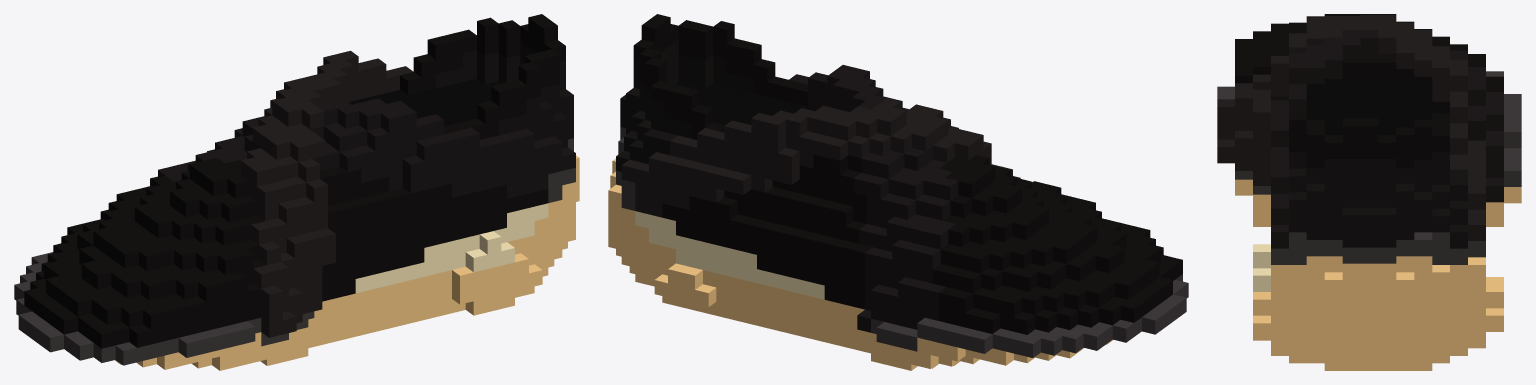
The model's file is Onyx.fbx.
3 renders of one model, left to right at view 1: azimuth 30°, elevation 25°; view 2: azimuth 150°, elevation 25°; view 3: azimuth 270°, elevation 25°, orthographic. The views are drawn at different scales.
Visible parts, largest first — view 1: Untitled; view 2: Untitled; view 3: Untitled.
Boxes of the visible parts, x1,y1,x2,y2 form: Untitled: [14, 14, 579, 370]; Untitled: [608, 14, 1188, 370]; Untitled: [1217, 14, 1521, 370].
Bounding box in the file's own units: 390 × 160 × 170.
